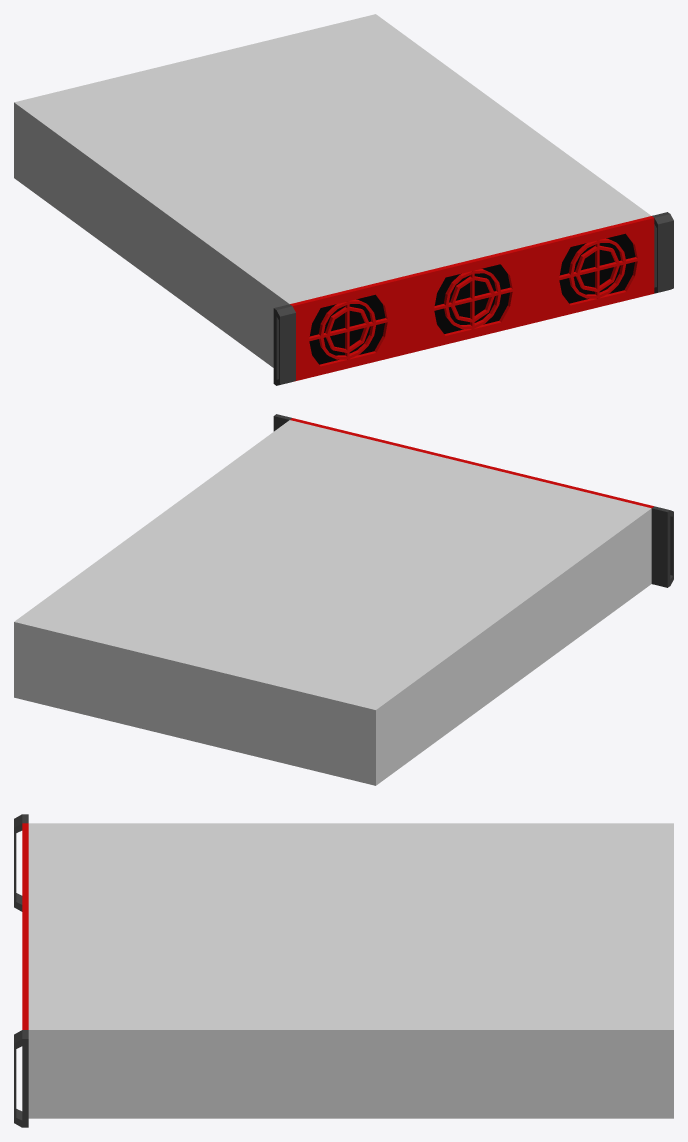
Rendered from server.fbx.
3 renders of one model, top to bottom at view 1: azimuth 30°, elevation 25°; view 2: azimuth 150°, elevation 25°; view 3: azimuth 270°, elevation 25°, orthographic. The views are drawn at different scales.
Visible parts, largest first — view 1: server; view 2: server; view 3: server.
Boxes of the visible parts, x1,y1,x2,y2 form: server: [14, 14, 673, 385]; server: [14, 414, 673, 785]; server: [14, 814, 673, 1127].
Size of the model in its own units: 48.99 by 9 by 60.75.
